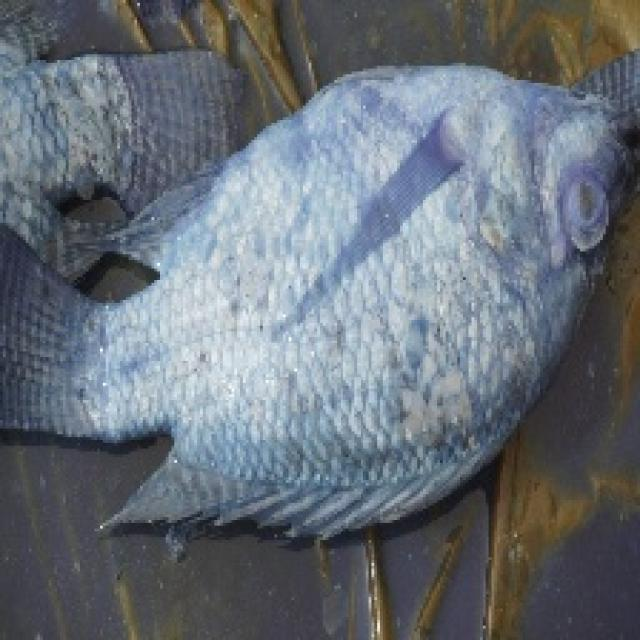Non-Fresh: (205, 38, 640, 376), (552, 160, 624, 253)
